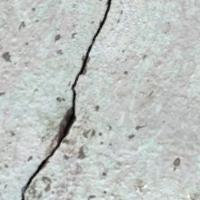crack: (18, 1, 122, 199)
